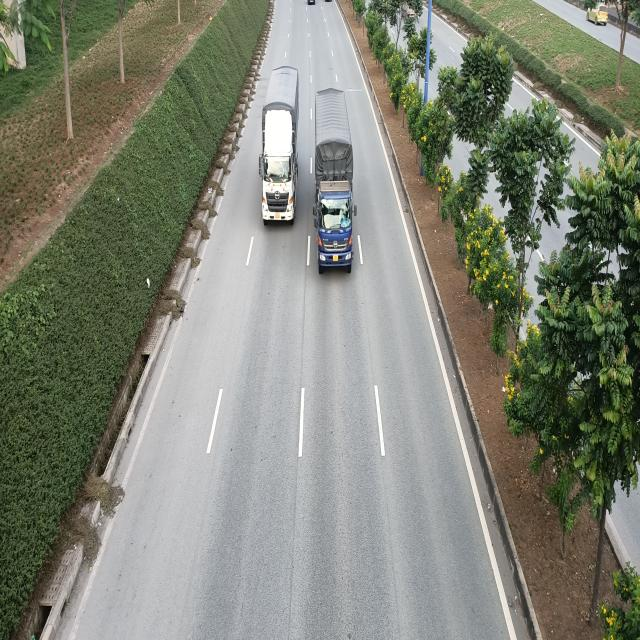truck: (315, 85, 359, 272), (258, 67, 298, 226)
